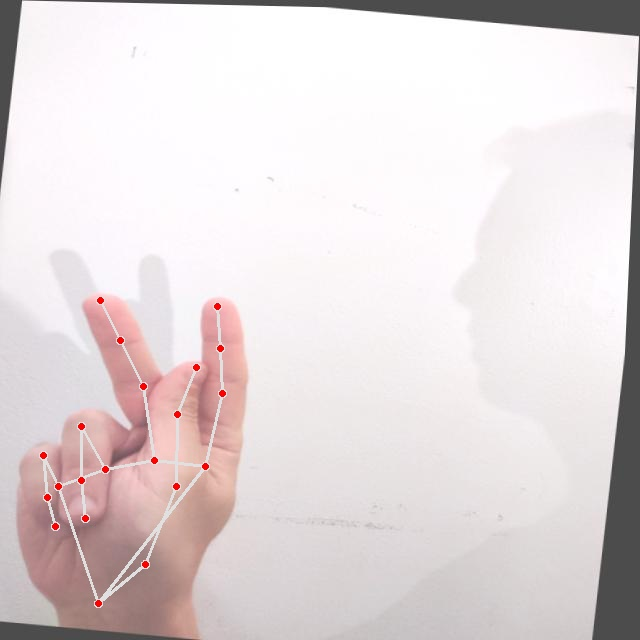K: (2, 274, 272, 633)
